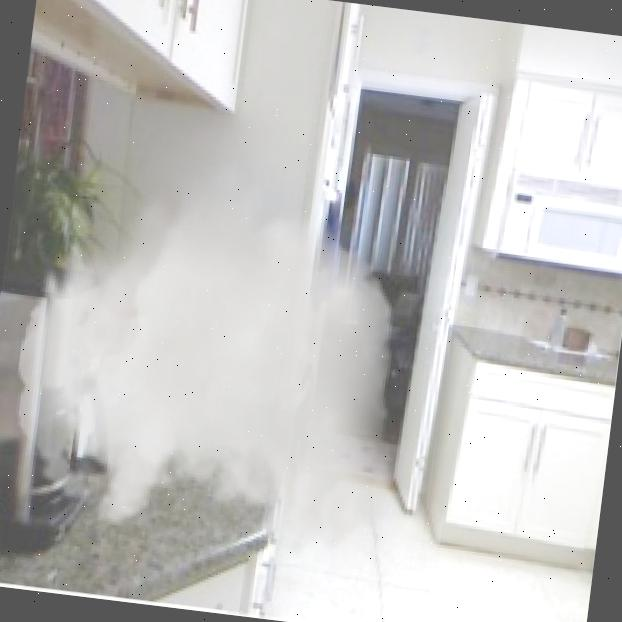smoke: (0, 130, 430, 570)
